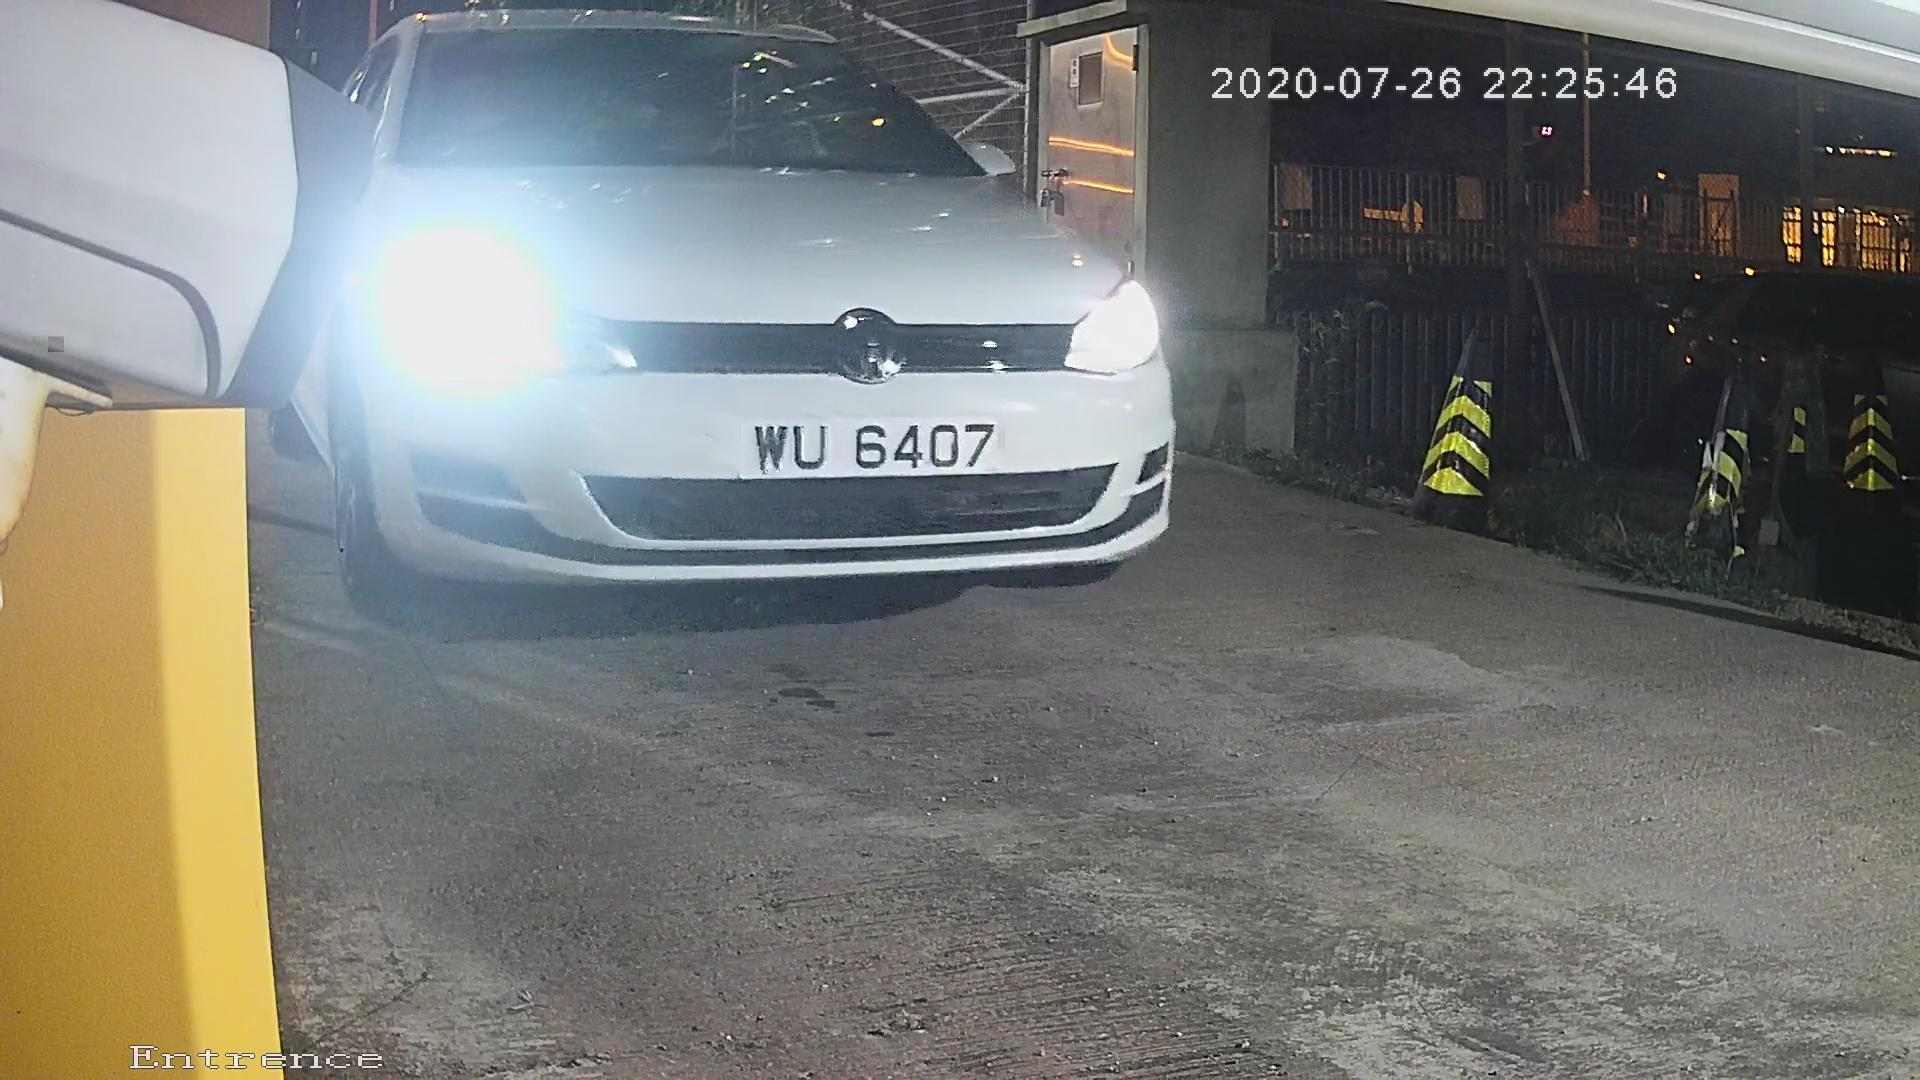Car: (103, 29, 1312, 733)
License Plate: (686, 391, 1038, 492)
